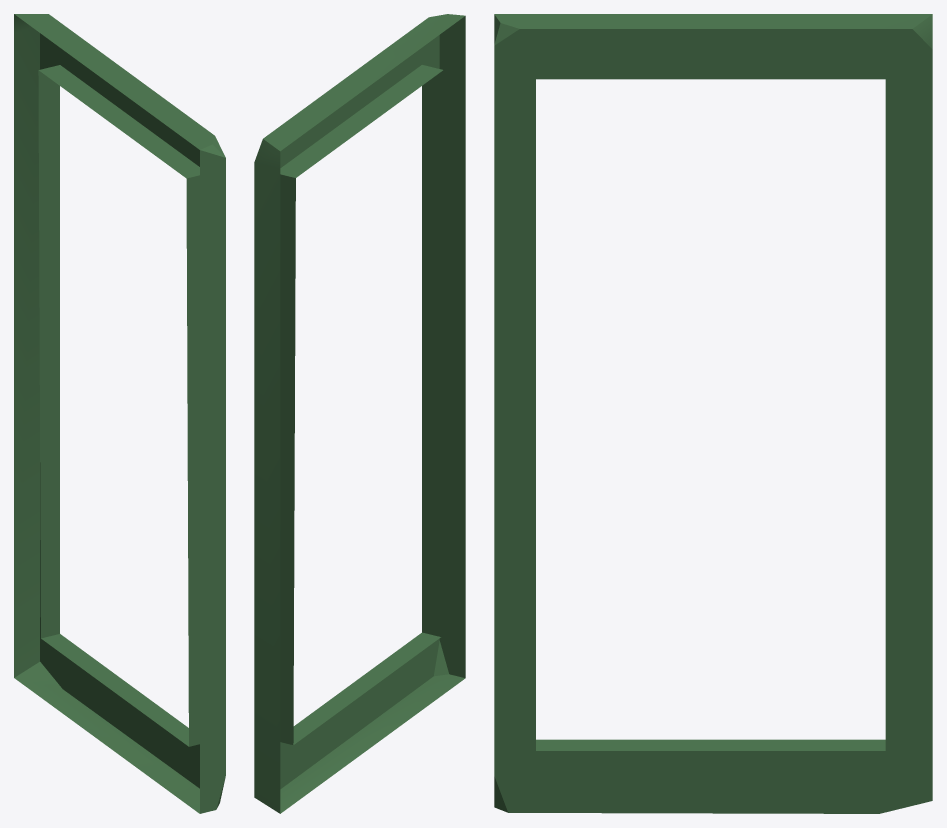
File: SM_rockdoortle.fbx
3 renders of one model, left to right at view 1: azimuth 30°, elevation 25°; view 2: azimuth 150°, elevation 25°; view 3: azimuth 270°, elevation 25°, orthographic. The views are drawn at different scales.
Visible parts, largest first — view 1: SM_rockdoortle; view 2: SM_rockdoortle; view 3: SM_rockdoortle.
Boxes of the visible parts, x1,y1,x2,y2 form: SM_rockdoortle: (14, 14, 225, 813); SM_rockdoortle: (254, 14, 465, 813); SM_rockdoortle: (494, 14, 932, 813).
Size of the model in its own units: 6.41 by 157 by 79.29.
